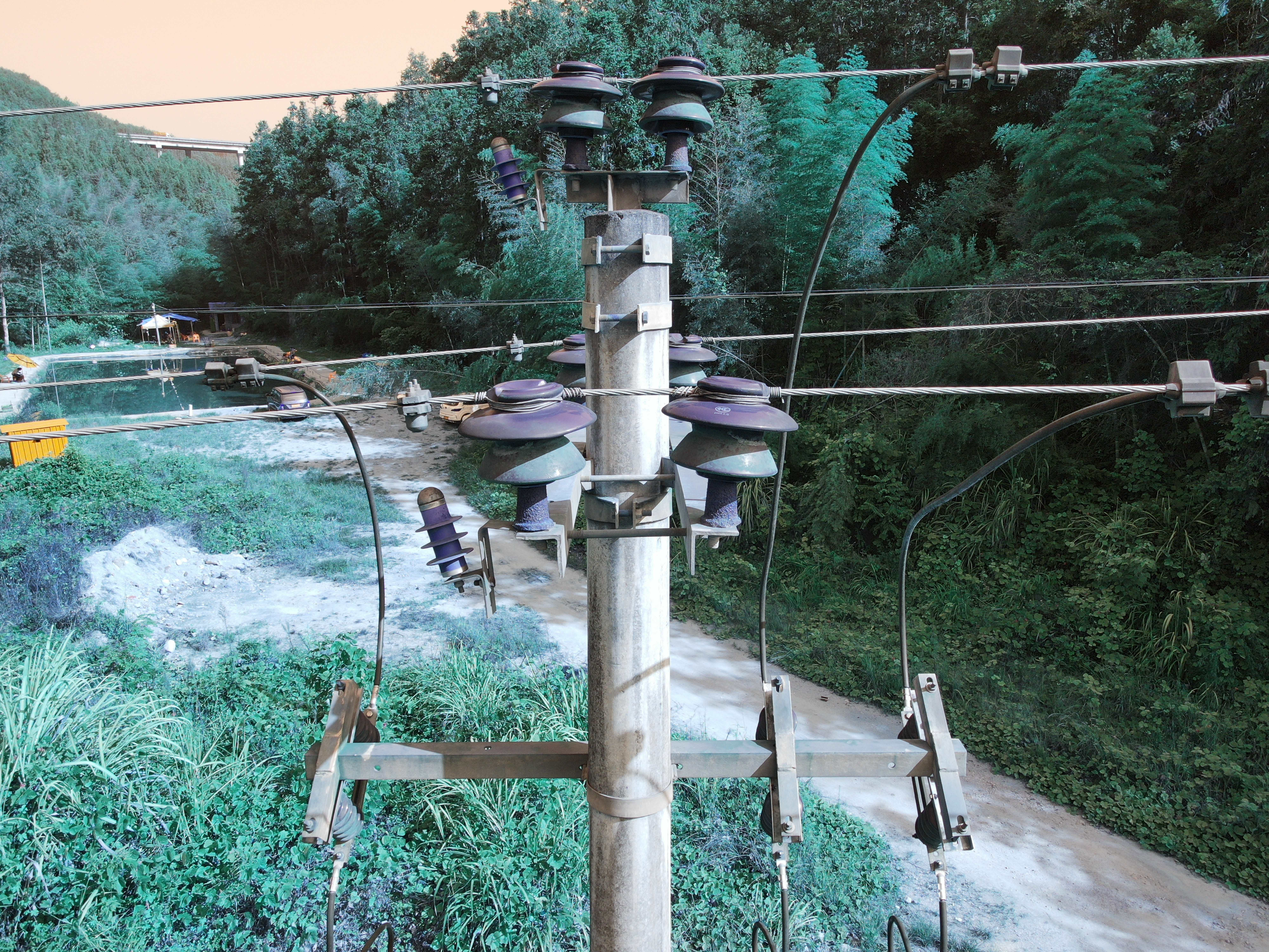severe_soiling_no_discharge_whole: (460, 376, 601, 499), (661, 374, 798, 493), (627, 55, 730, 143), (528, 55, 627, 144), (668, 332, 720, 387), (548, 334, 586, 389)
